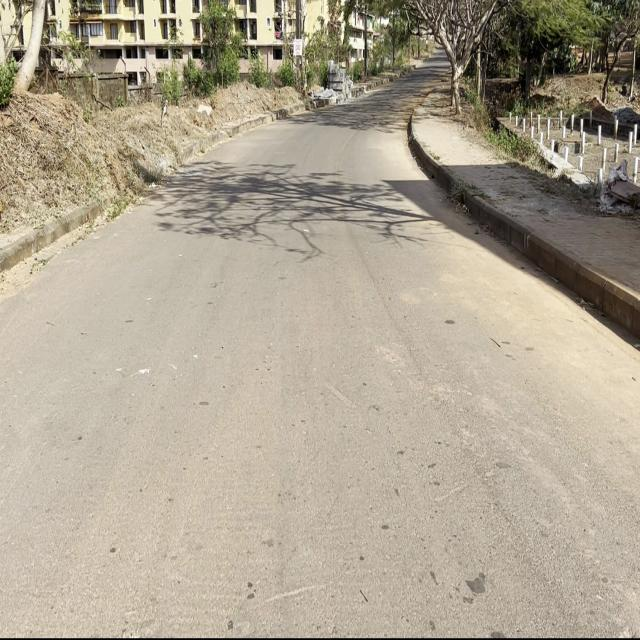Road: (0, 72, 640, 639)
